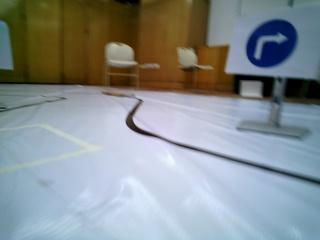right: (241, 16, 305, 73)
